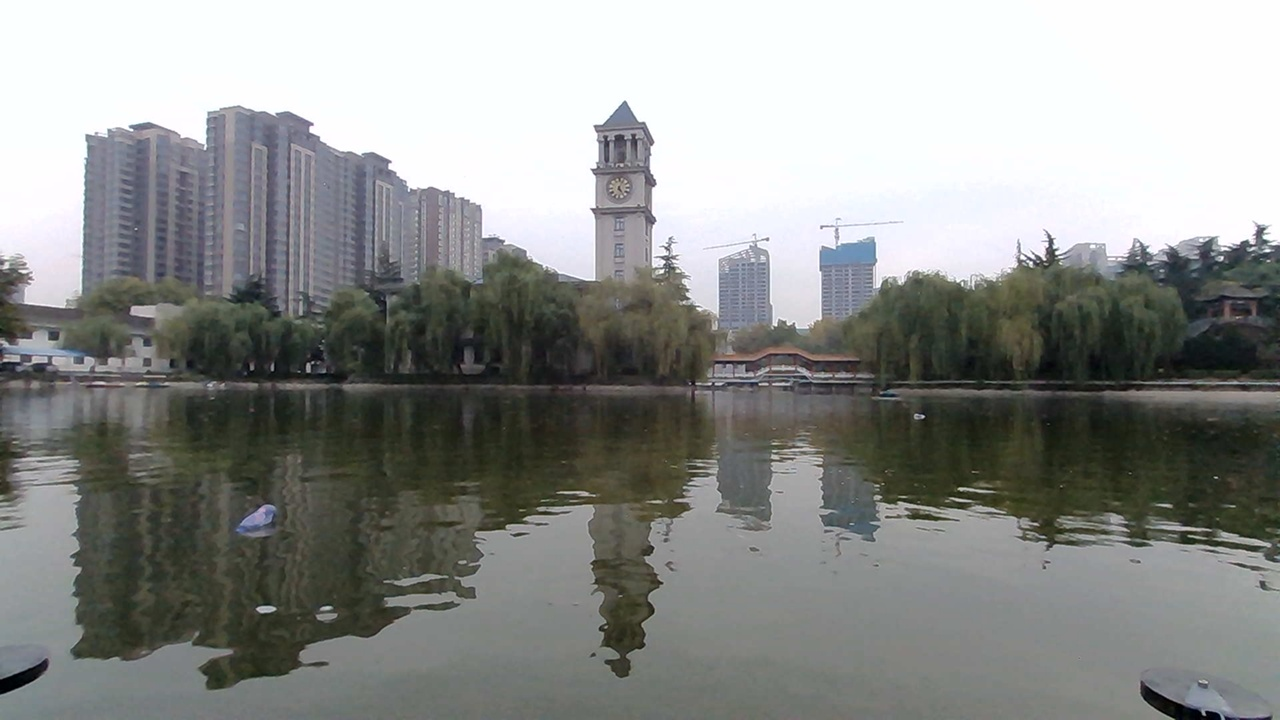bottle: (219, 500, 297, 547), (905, 401, 951, 425)
